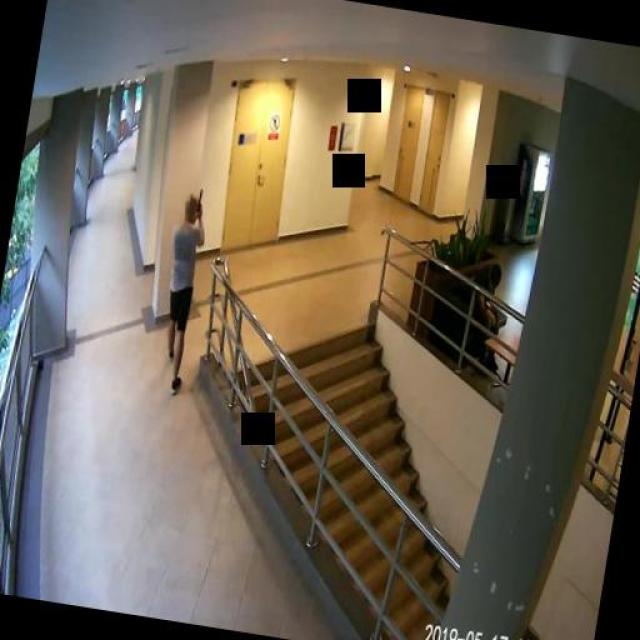gun: (195, 184, 205, 212)
